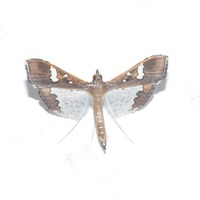insect: (25, 55, 167, 151)
